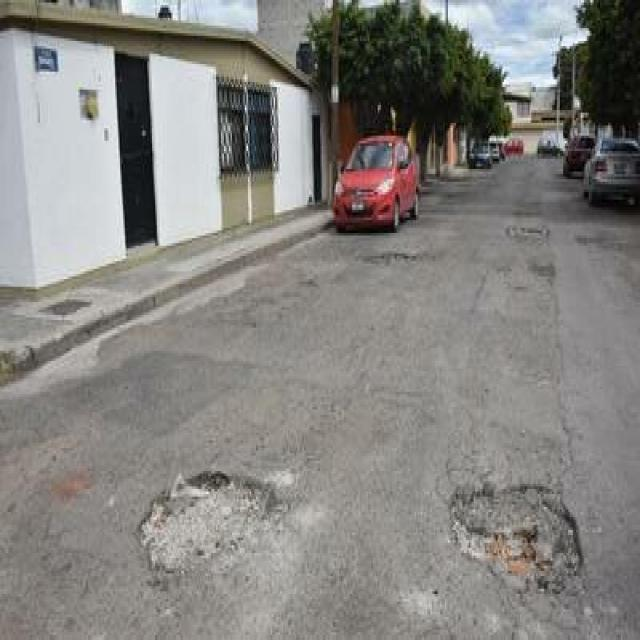Pothole: (419, 428, 640, 638), (115, 433, 304, 617)
